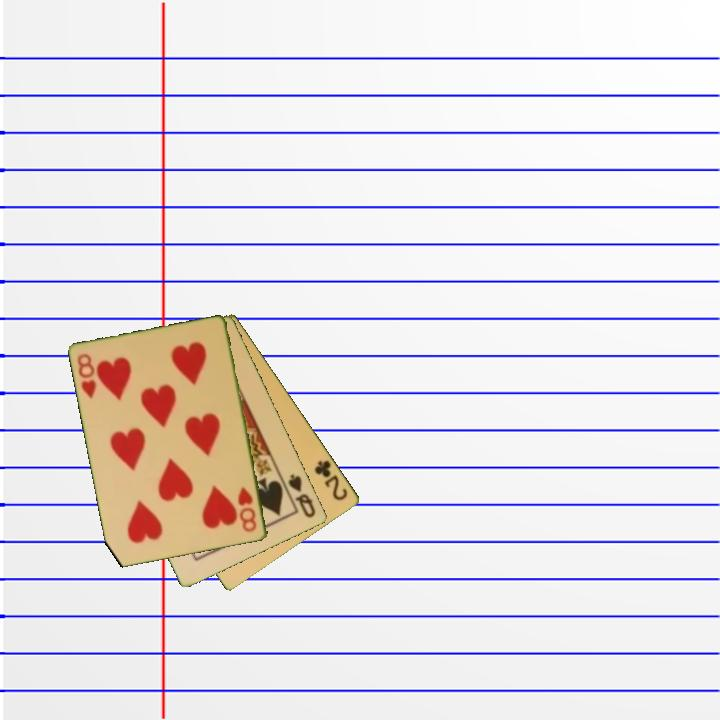2c: (311, 457, 351, 504)
8h: (74, 350, 100, 401), (235, 484, 260, 535)
Qs: (285, 470, 319, 521)
